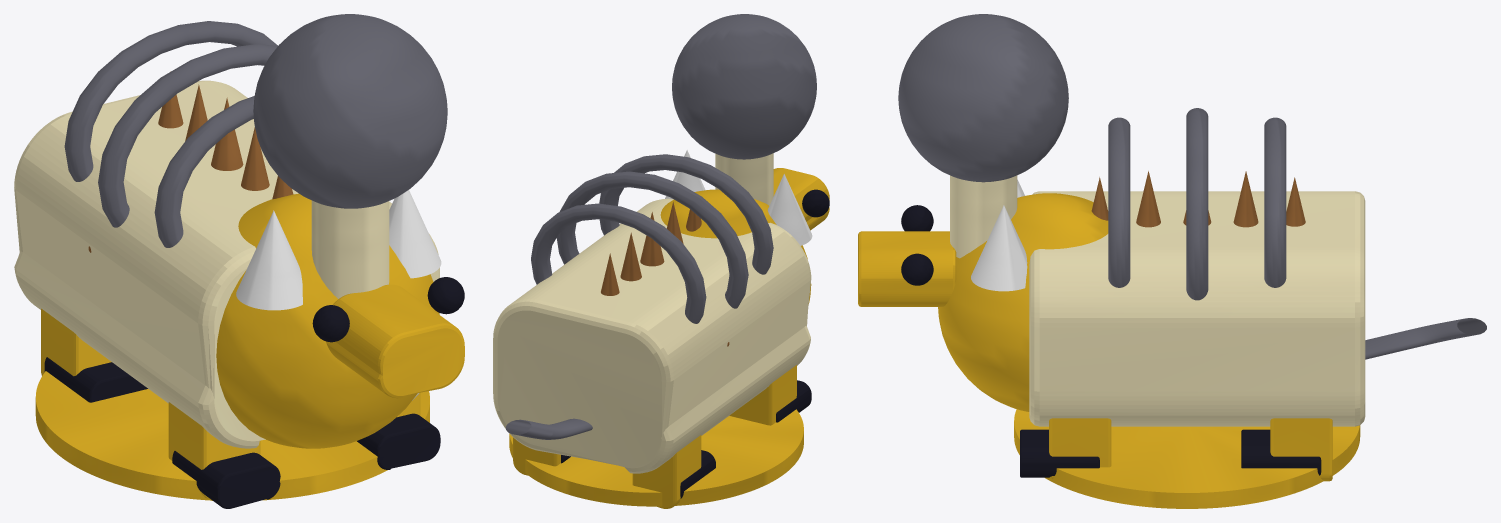
The model's file is 1294_爬行动物图鉴_撒旦叶尾壁虎.glb.
3 renders of one model, left to right at view 1: azimuth 30°, elevation 25°; view 2: azimuth 150°, elevation 25°; view 3: azimuth 270°, elevation 25°, orthographic. The views are drawn at different scales.
Parts seen in each view (by area): view 1: card_1294; view 2: card_1294; view 3: card_1294.
Part boxes in pixels (box(x1,y1,x2,y2)): card_1294: box(14, 14, 464, 508); card_1294: box(493, 14, 829, 508); card_1294: box(858, 14, 1486, 508).
Bounding box in the file's own units: 0.7349 × 1 × 1.36.
